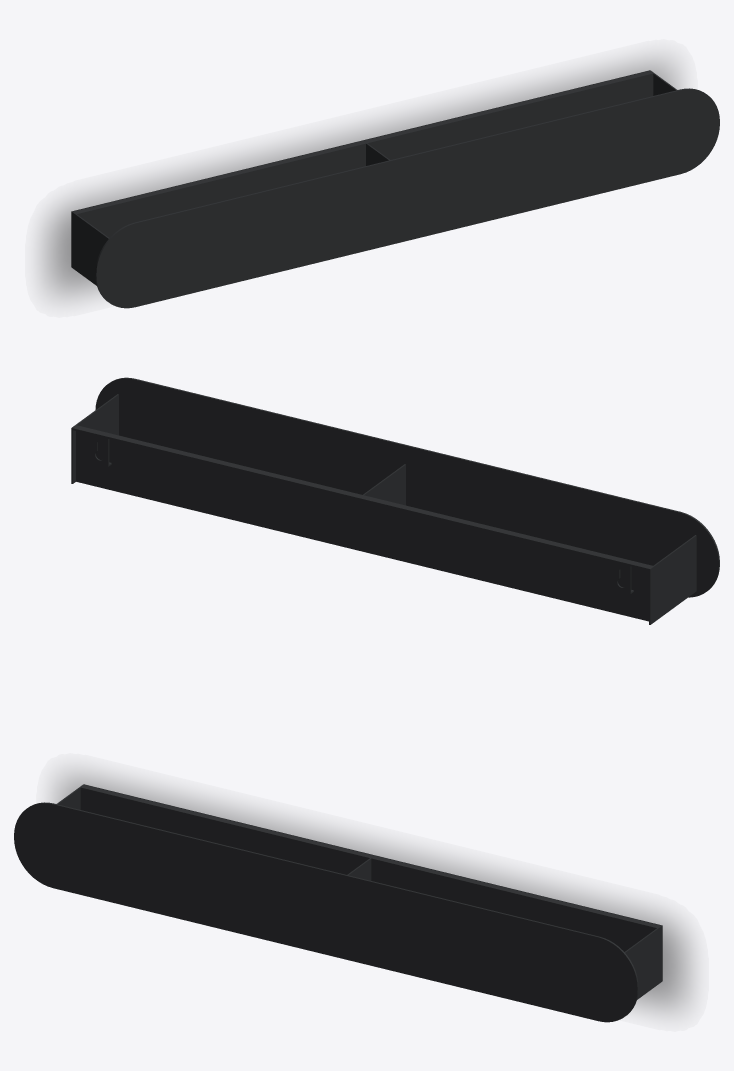
File: round-mono.824dcbd3e2.ar.glb
The picture shows the model from 3 angles, top to bottom: view 1: azimuth 30°, elevation 25°; view 2: azimuth 150°, elevation 25°; view 3: azimuth 330°, elevation 25°; orthographic projection.
Parts seen in each view (by area): view 1: NAUO1, object 2; view 2: NAUO1; view 3: NAUO1, object 2.
Part boxes in pixels (x1,y1,x2,y2): NAUO1: [71, 70, 719, 308]; object 2: [42, 59, 679, 297]; NAUO1: [71, 377, 719, 624]; NAUO1: [14, 784, 662, 1022]; object 2: [54, 773, 691, 1011].
Size of the model in its own units: 0.78 by 0.17 by 0.092.
2 materials, 1 textured.
